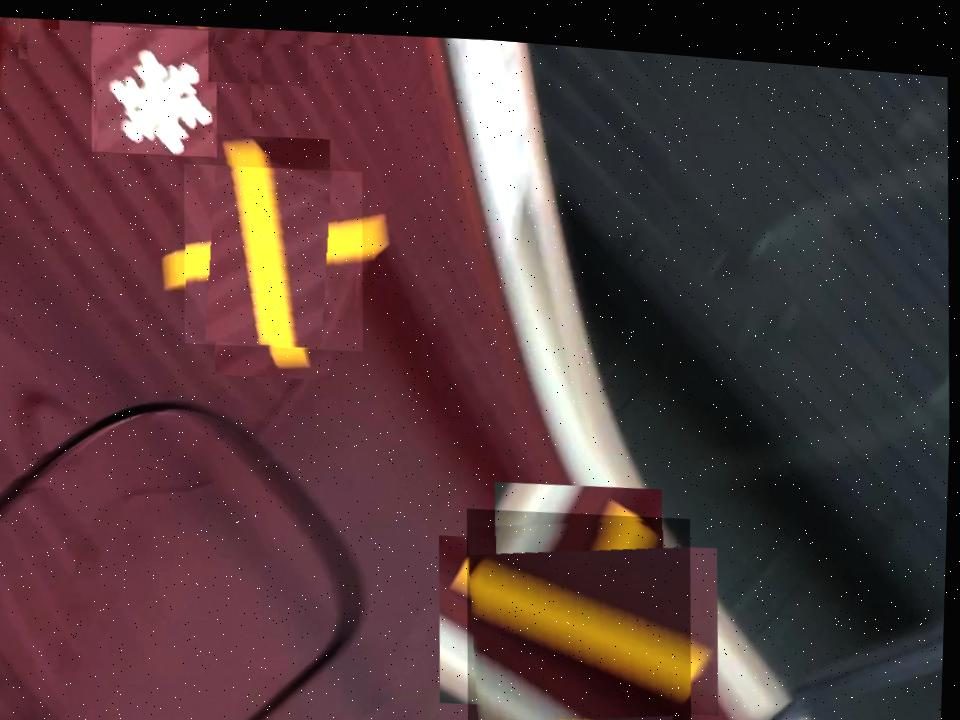dent: (88, 19, 221, 157)
scratch: (464, 492, 701, 720), (180, 154, 368, 351), (207, 19, 309, 84), (3, 15, 45, 44)
